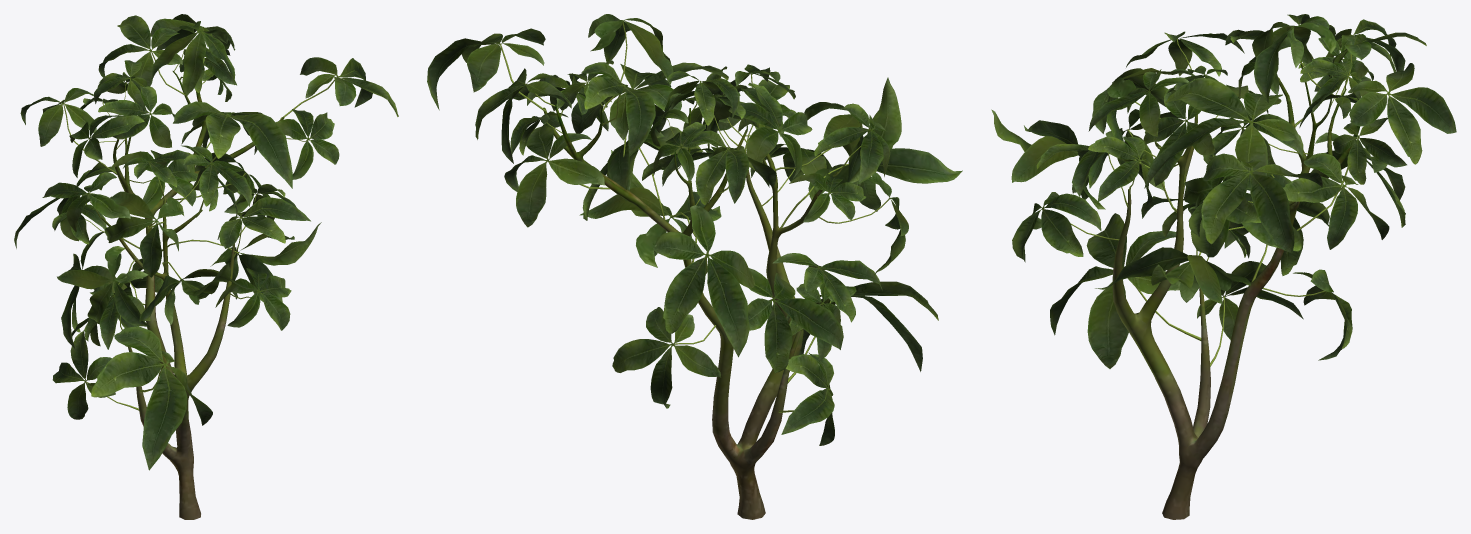
File: pachira.glb
3 views of the same model, side by side, from view 1: azimuth 30°, elevation 25°; view 2: azimuth 150°, elevation 25°; view 3: azimuth 270°, elevation 25° (orthographic). The views are drawn at different scales.
Visible parts, largest first — view 1: pachira_aquatica_01_leaves_c, pachira_aquatica_01_bark_c; view 2: pachira_aquatica_01_leaves_c, pachira_aquatica_01_bark_c; view 3: pachira_aquatica_01_leaves_c, pachira_aquatica_01_bark_c.
Boxes of the visible parts, x1=… form: pachira_aquatica_01_leaves_c: x1=14, y1=14, x2=398, y2=470; pachira_aquatica_01_bark_c: x1=101, y1=71, x2=284, y2=519; pachira_aquatica_01_leaves_c: x1=427, y1=14, x2=962, y2=445; pachira_aquatica_01_bark_c: x1=543, y1=104, x2=837, y2=519; pachira_aquatica_01_leaves_c: x1=991, y1=14, x2=1456, y2=368; pachira_aquatica_01_bark_c: x1=1112, y1=60, x2=1359, y2=519.
Size of the model in its own units: 0.9753 by 1.15 by 0.9237.
2 materials, 2 textured.
